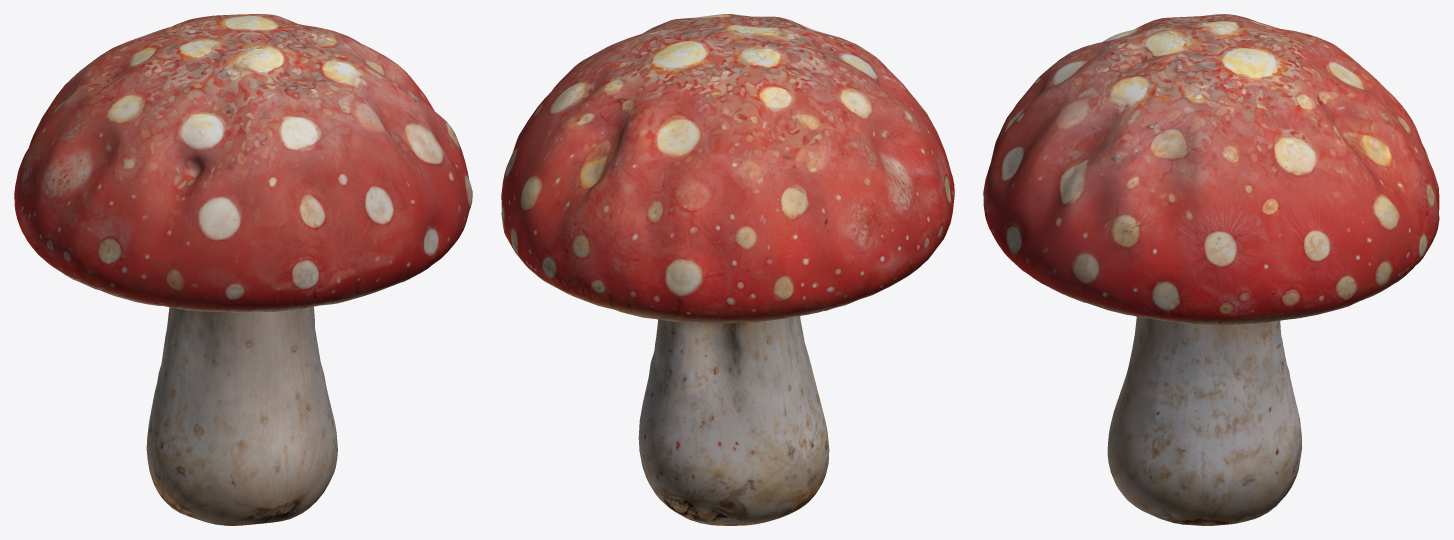
3 views of the same model, side by side, from view 1: azimuth 30°, elevation 25°; view 2: azimuth 150°, elevation 25°; view 3: azimuth 270°, elevation 25° (orthographic).
Visible parts, largest first — view 1: Mesh_0; view 2: Mesh_0; view 3: Mesh_0.
Part boxes in pixels (bbox=[...]): Mesh_0: bbox=[14, 14, 472, 525]; Mesh_0: bbox=[501, 14, 954, 525]; Mesh_0: bbox=[983, 14, 1439, 525].
Size of the model in its own units: 106 by 120 by 106.
Materials: 1 (1 with a texture image).
